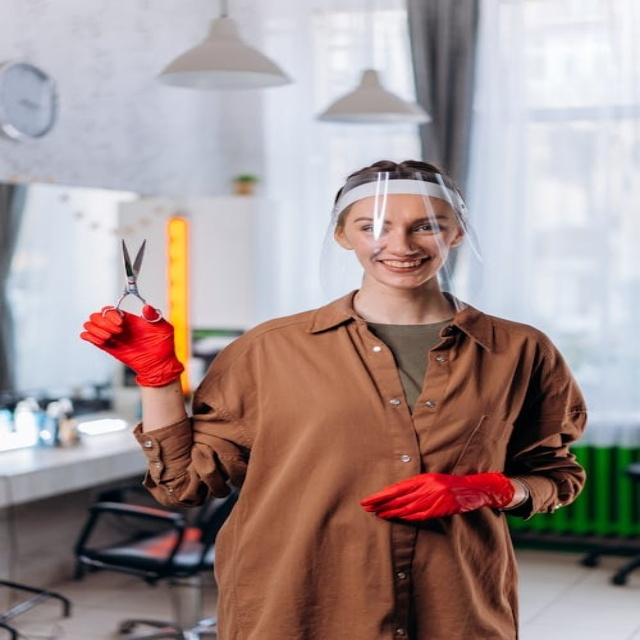Guantes: (352, 464, 518, 527), (74, 300, 191, 388)
Sin_gafas: (347, 215, 454, 239)
Sin_mascara: (367, 253, 438, 280)
